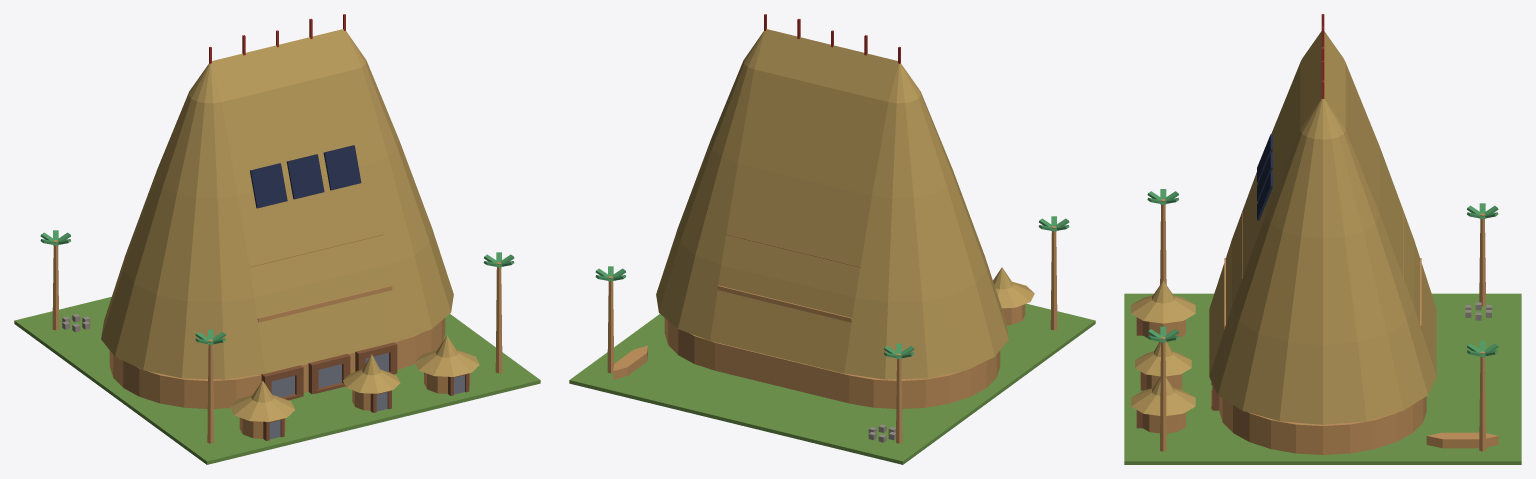
Rendered from house-2x2-5f-maloca-a-solar.glb.
3 views of the same model, side by side, from view 1: azimuth 30°, elevation 25°; view 2: azimuth 150°, elevation 25°; view 3: azimuth 270°, elevation 25° (orthographic). The views are drawn at different scales.
Parts seen in each view (by area): view 1: house-2x2-5f-maloca-a-solar; view 2: house-2x2-5f-maloca-a-solar; view 3: house-2x2-5f-maloca-a-solar.
Boxes of the visible parts, <box> form: house-2x2-5f-maloca-a-solar: <box>14,14,540,464</box>; house-2x2-5f-maloca-a-solar: <box>569,14,1095,464</box>; house-2x2-5f-maloca-a-solar: <box>1124,14,1521,464</box>.
Bounding box in the file's own units: 1.99 × 1.86 × 1.99.
Materials: 1 (1 with a texture image).
